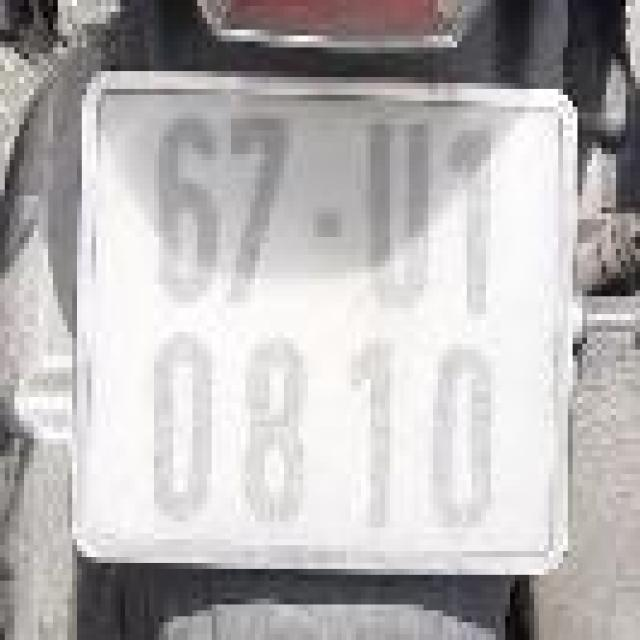0: (426, 329, 512, 548), (137, 317, 219, 530)
1: (344, 332, 402, 539), (448, 112, 496, 332)
6: (142, 107, 219, 308)
7: (219, 104, 301, 311)
8: (233, 329, 310, 524)
U: (358, 104, 436, 323)
